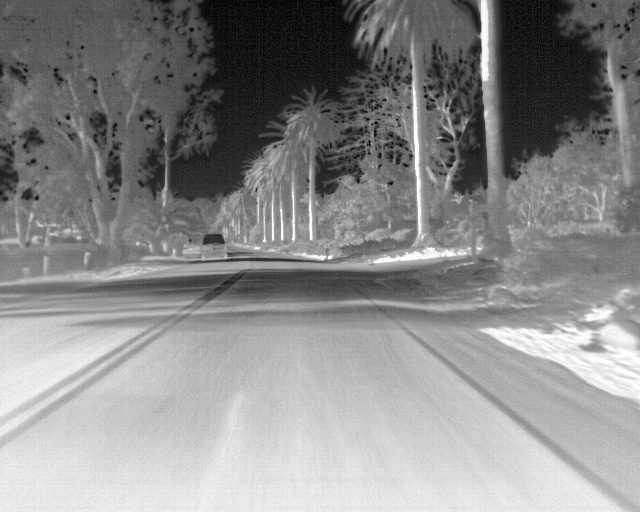vehicle: (200, 232, 228, 262)
